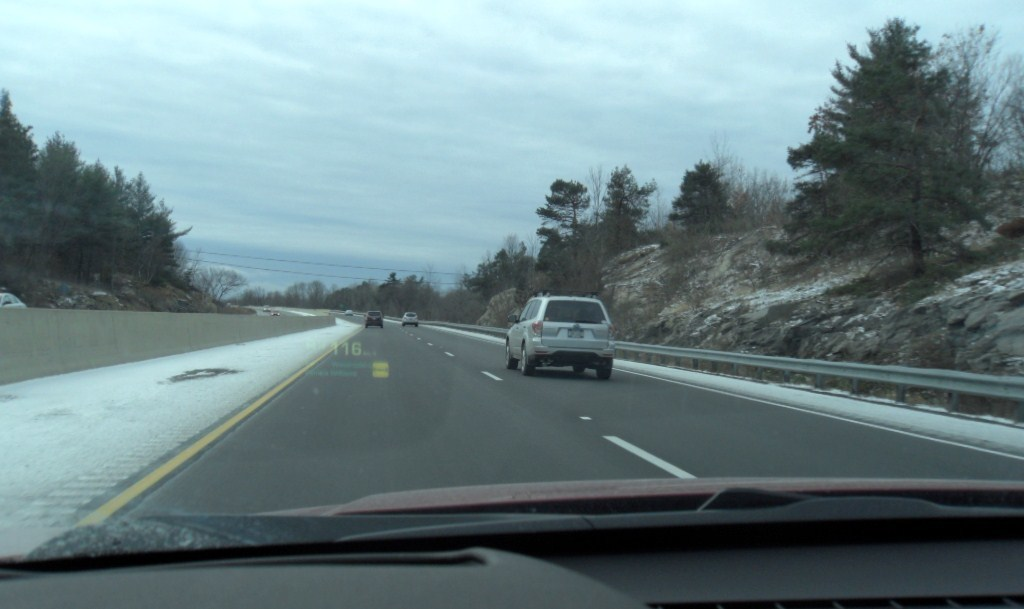mobil: (494, 286, 623, 387)
